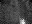person: (21, 20, 25, 24)
